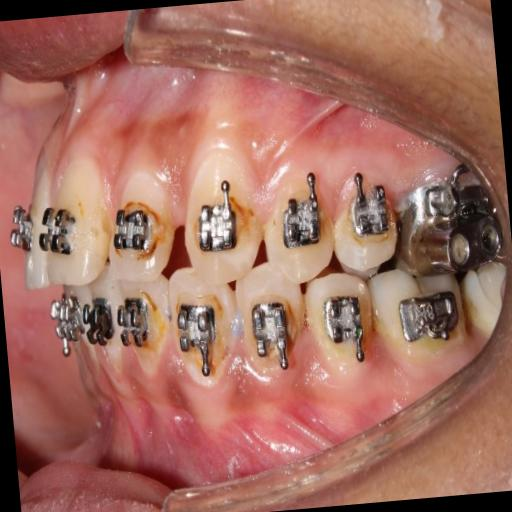correct_brace: (262, 172, 340, 286), (34, 200, 78, 260), (196, 200, 240, 255), (110, 202, 152, 254)
incorrect_brace: (102, 164, 176, 288), (278, 192, 325, 250)
